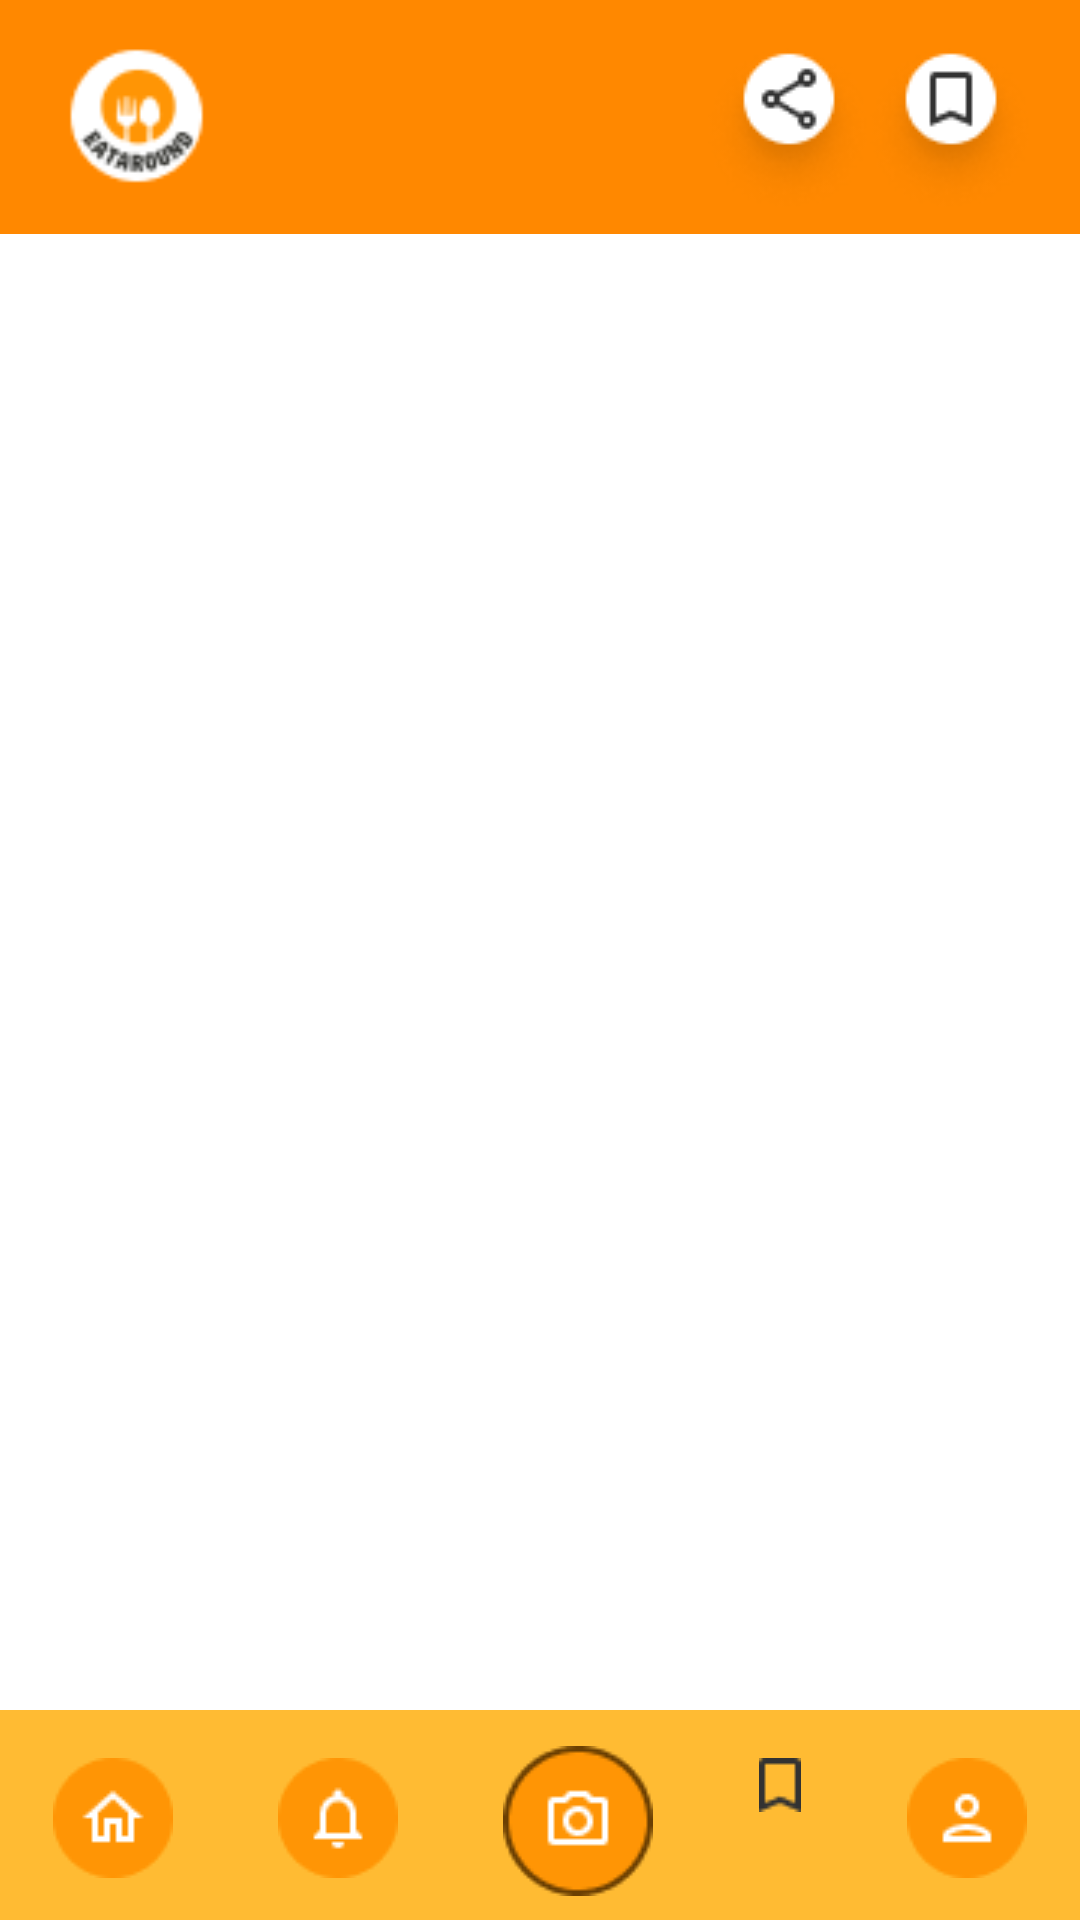

Screen size 1080 × 1920. Icon name, then its box in pixels as (x1, y1, x2, y2):
bookmark: (759, 1758, 801, 1812)
cam: (503, 1746, 653, 1896)
home: (53, 1758, 173, 1878)
notif: (278, 1758, 398, 1878)
profile: (907, 1758, 1027, 1878)
save: (905, 53, 997, 155)
share: (743, 53, 835, 155)
